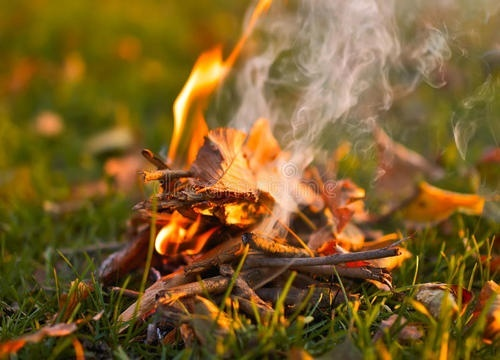fire: (165, 0, 277, 176)
